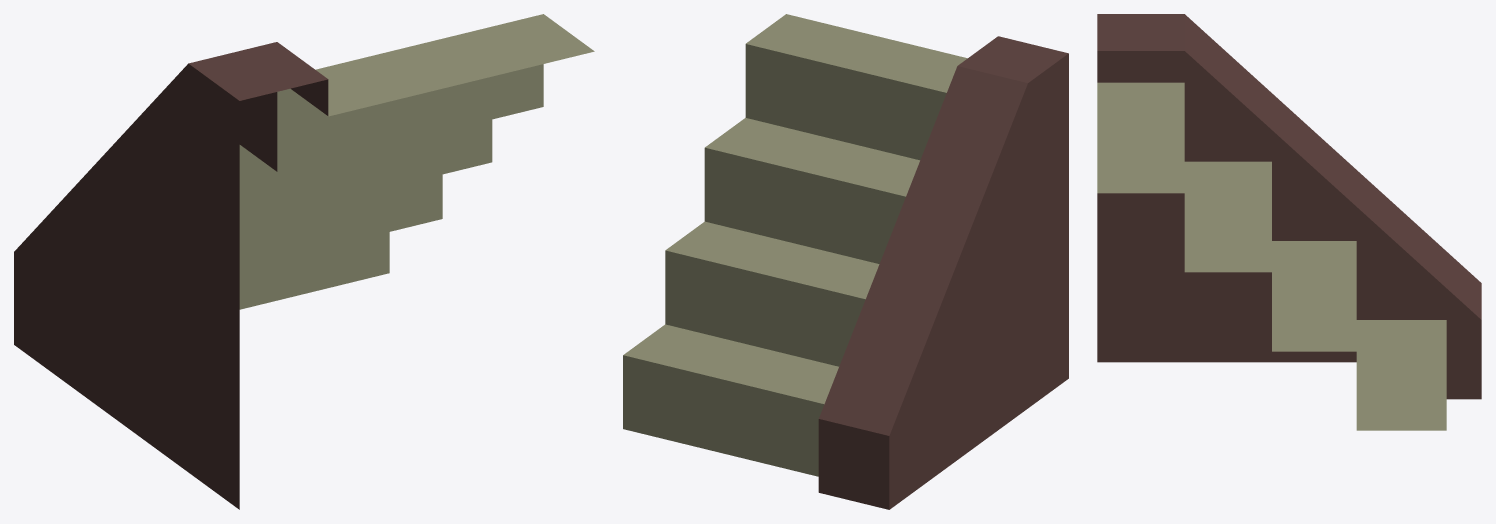
The model's file is StairL.fbx.
The picture shows the model from 3 angles, left to right: view 1: azimuth 30°, elevation 25°; view 2: azimuth 150°, elevation 25°; view 3: azimuth 270°, elevation 25°; orthographic projection. The views are drawn at different scales.
Parts seen in each view (by area): view 1: StairL; view 2: StairL; view 3: StairL.
Boxes of the visible parts, bbox=[...] form: StairL: bbox=[14, 14, 594, 509]; StairL: bbox=[623, 14, 1068, 509]; StairL: bbox=[1097, 14, 1481, 430].
Size of the model in its own units: 1 by 1.1 by 1.1.
